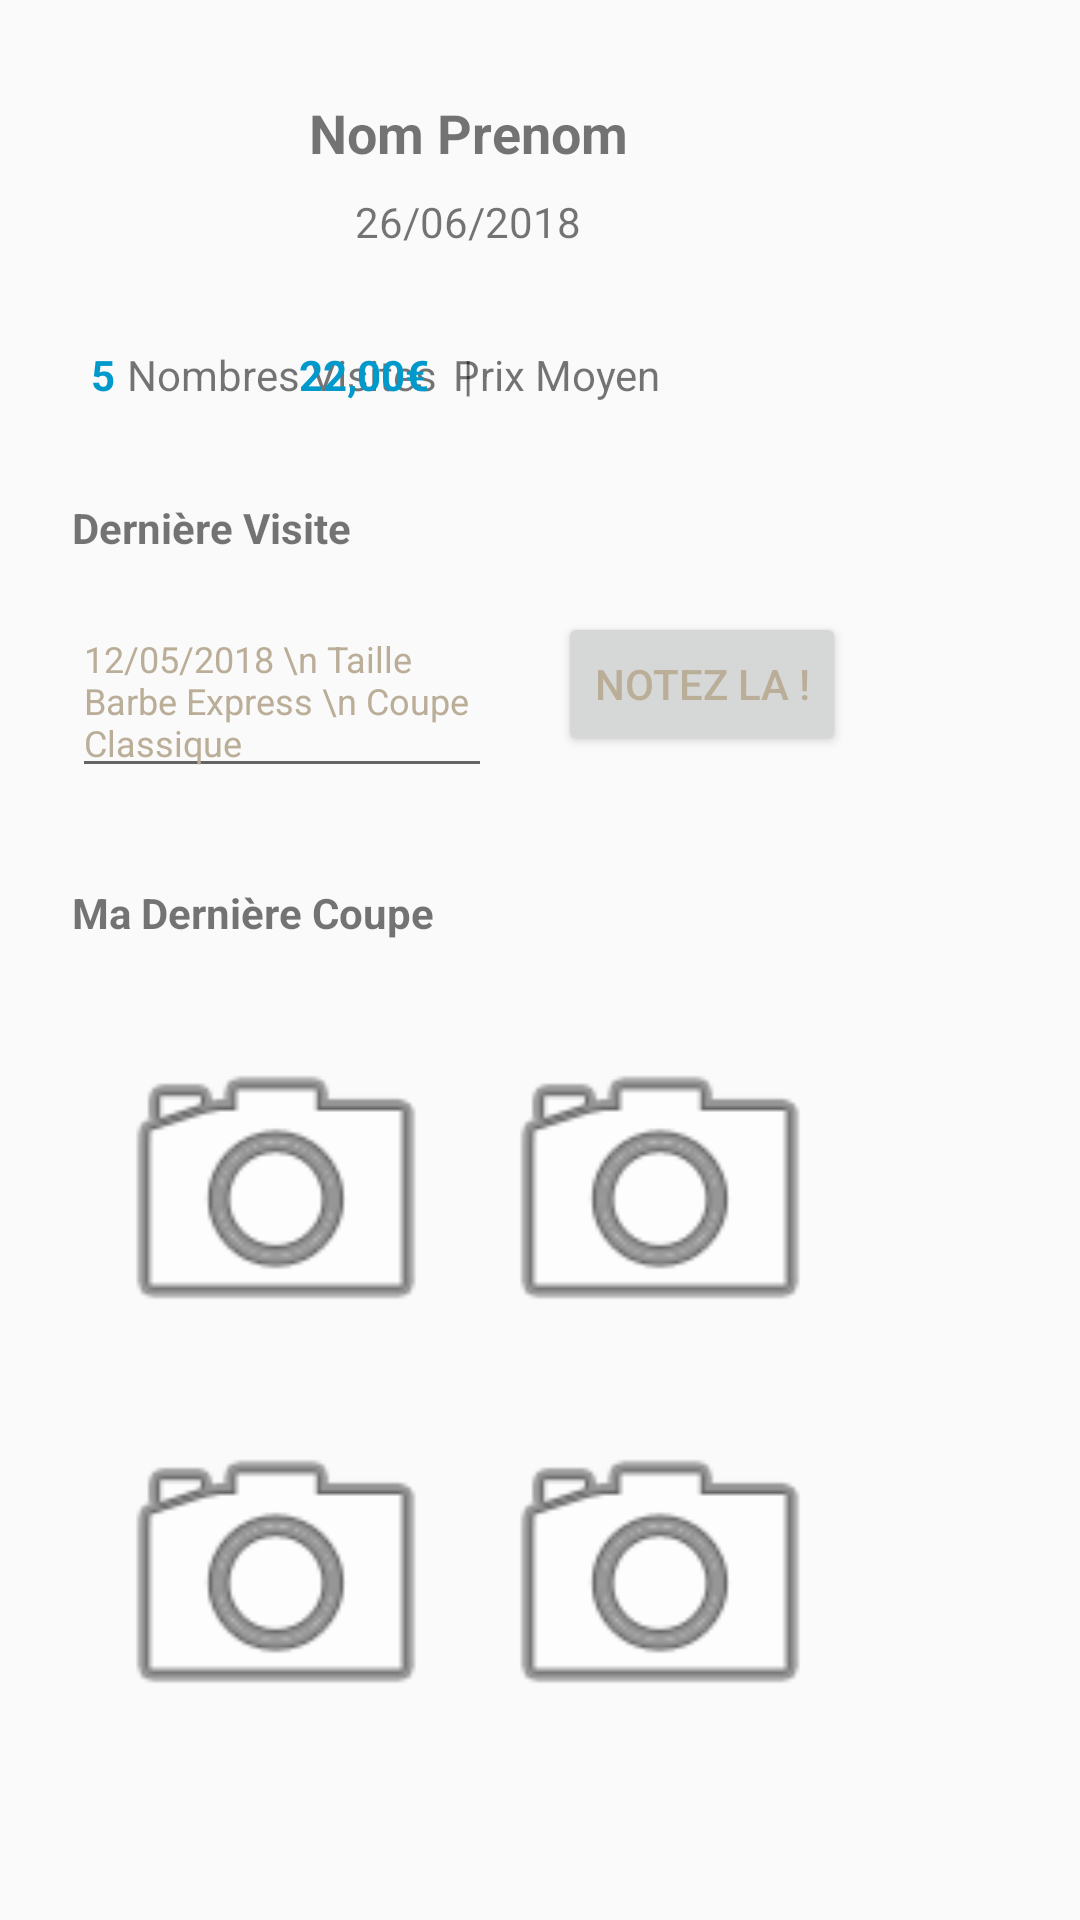

Locate icon controls on the screen. Image size 1080*1920, boxes as [x1=x1, y1=y1, x2=x2, y2=y2].
camera: [x1=137, y1=1076, x2=415, y2=1298], [x1=521, y1=1076, x2=799, y2=1298], [x1=137, y1=1460, x2=415, y2=1682], [x1=521, y1=1460, x2=799, y2=1682]
